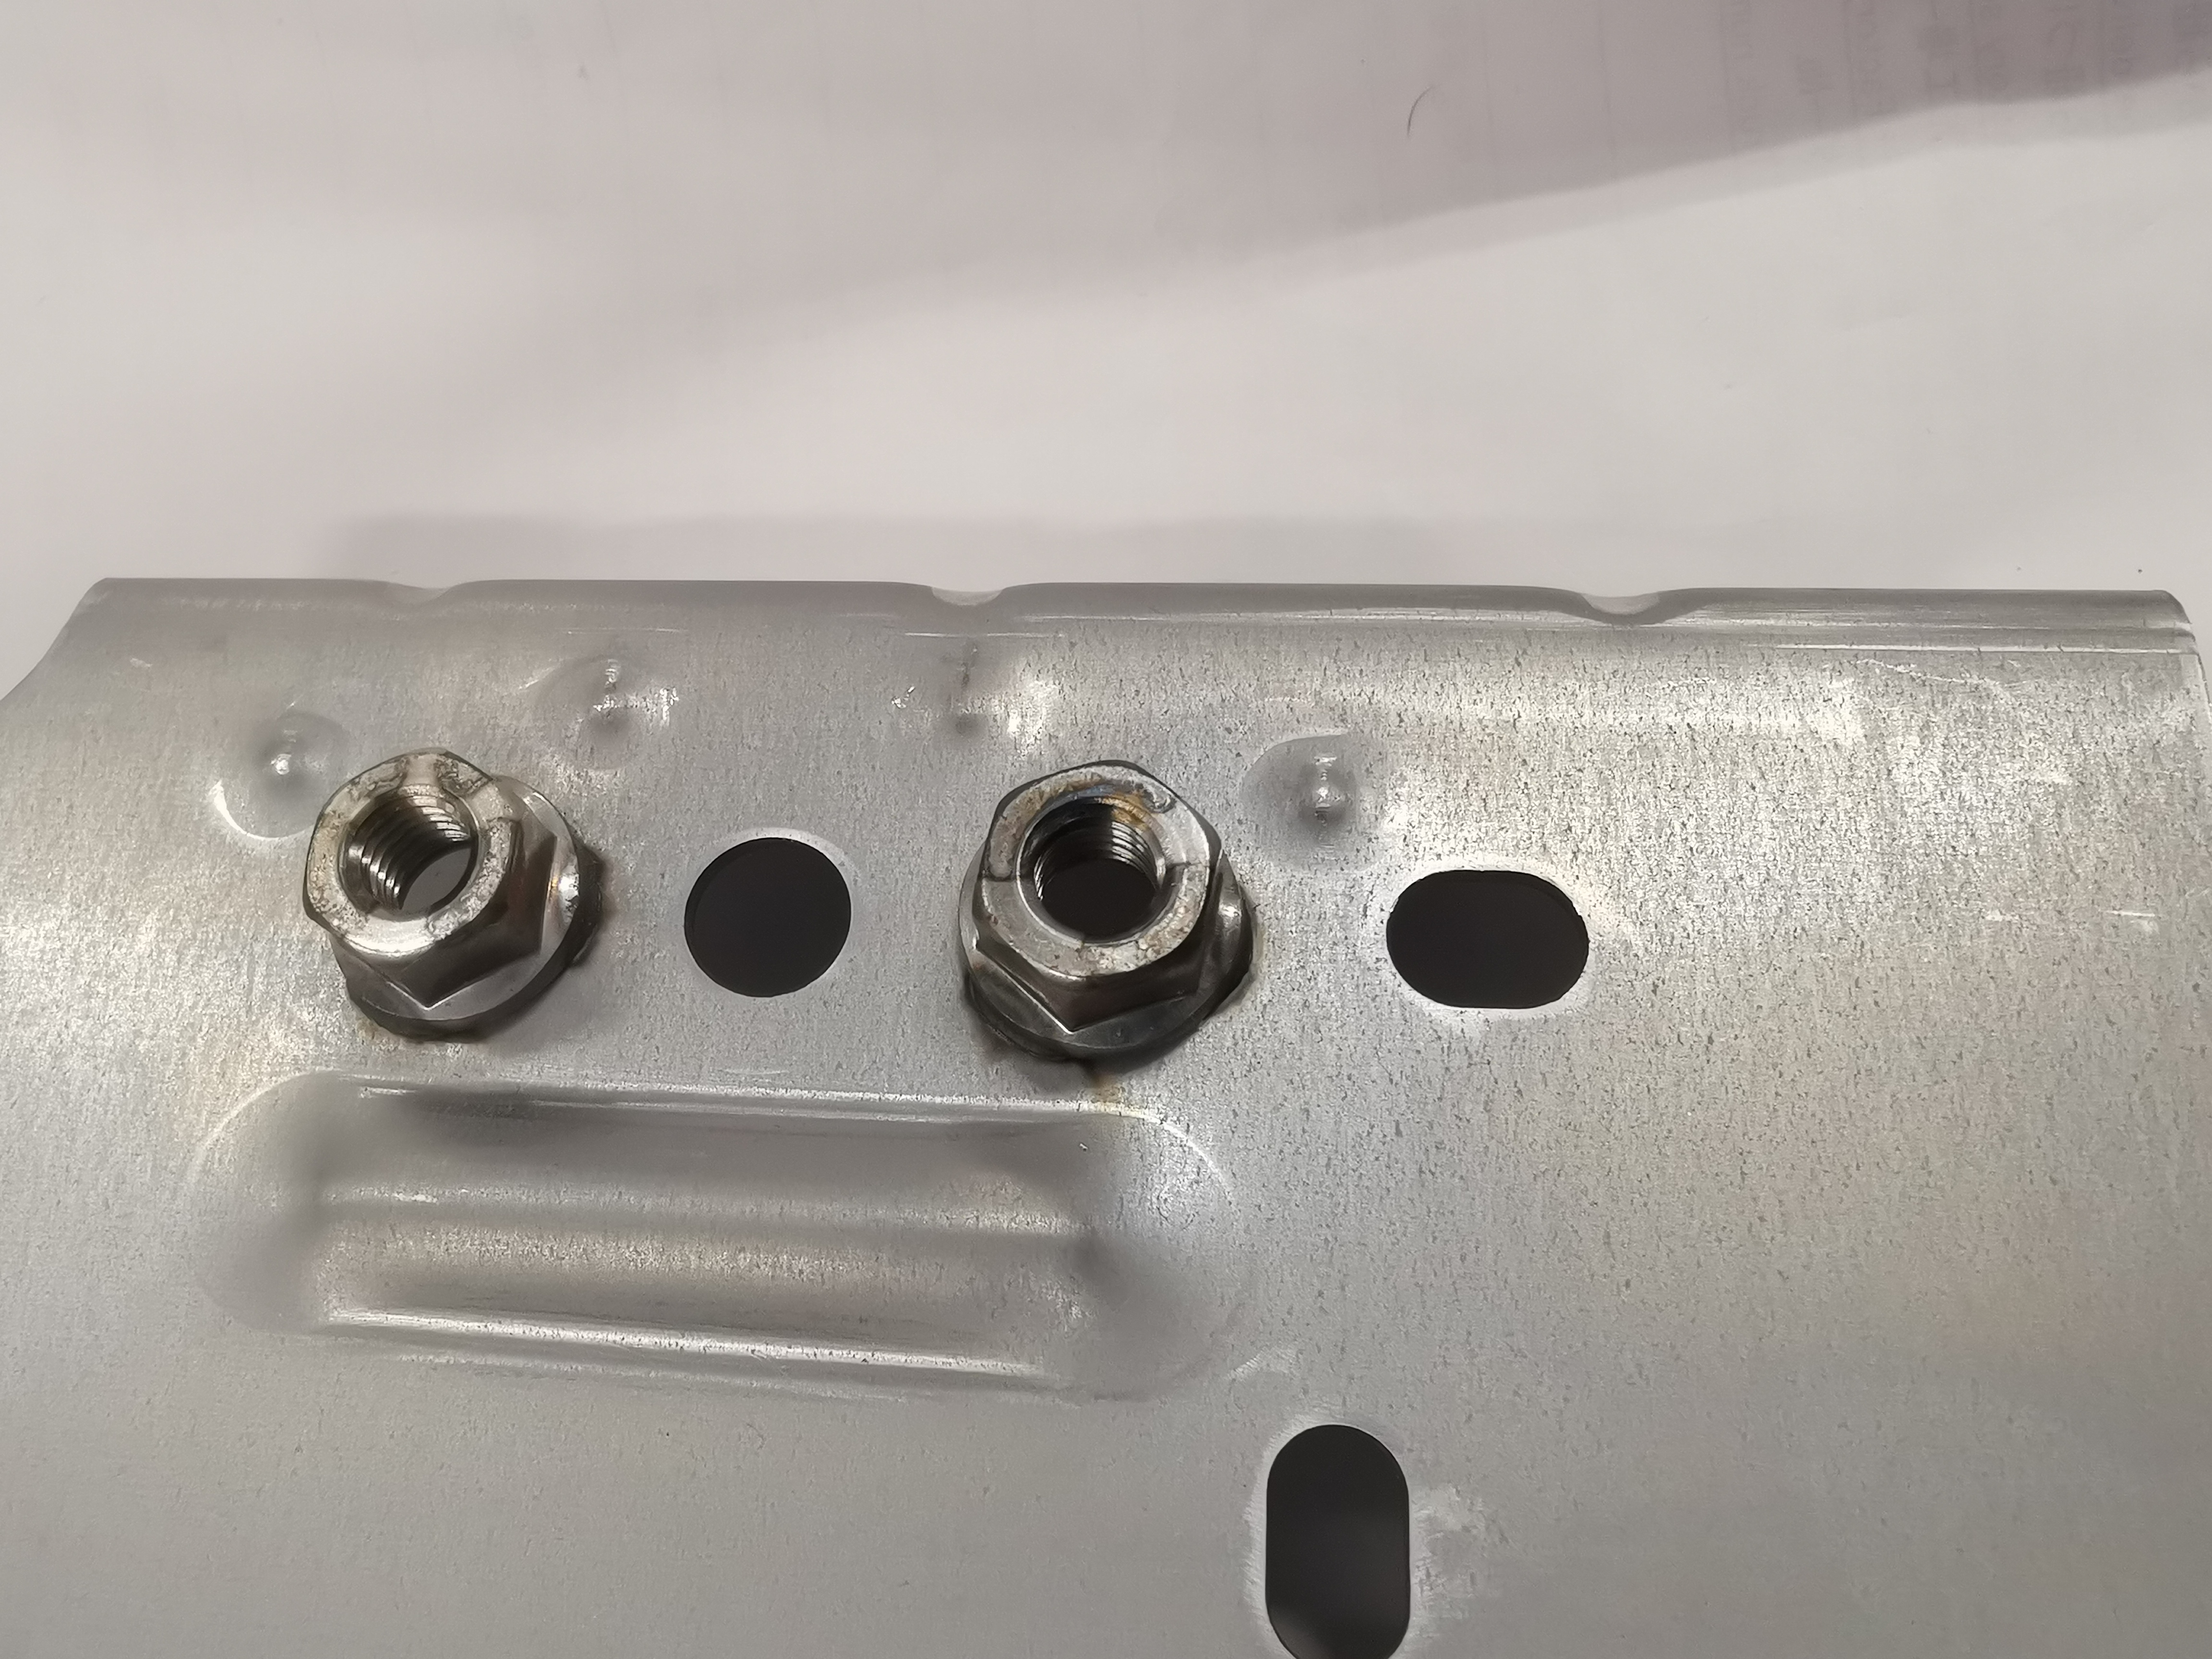dog: (954, 753, 1261, 1068), (293, 744, 592, 1044)
